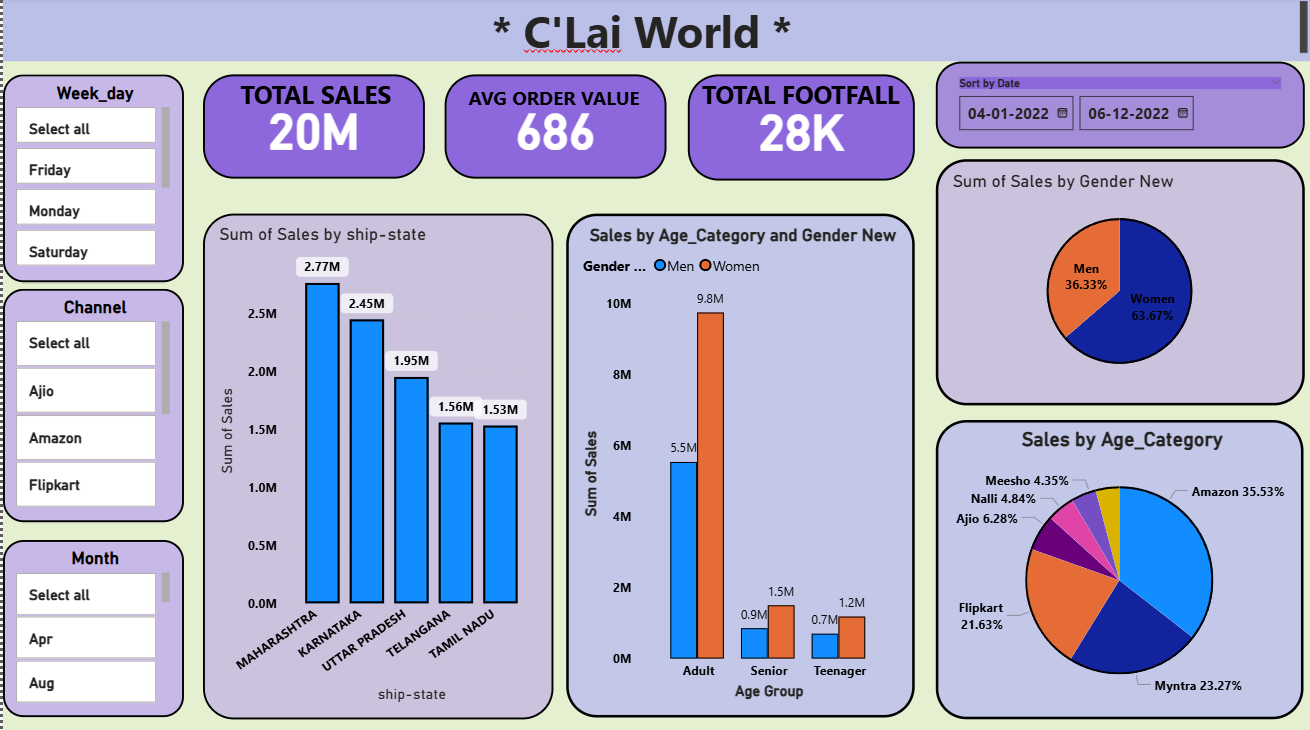

Layout of this report page (visuals, bound fields, positions):
{"tool":"powerbi","page":{"name":"Final Report","canvas":[1280,720],"ordinal":3},"visuals":[{"type":"clusteredColumnChart","title":"Sales by Age_Category and Gender New","fields":{"Y":["Sum(Vrinda Store.Sales)"],"Series":["Vrinda Store.Gender New"],"Category":["Vrinda Store.Age Group"]},"box":[550.9,212,340.5,492.4],"z":0},{"type":"pieChart","title":"Sales by Age_Category","fields":{"Y":["Sum(Vrinda Store.Sales)"],"Category":["Vrinda Store.Channel "]},"box":[911.7,414.4,359.7,292.4],"z":1000},{"type":"advancedSlicerVisual","fields":{"Values":["Vrinda Store.Week_day"]},"box":[0,76.7,176.7,203.3],"z":2000},{"type":"textbox","box":[0,0,1280,64],"z":3000},{"type":"advancedSlicerVisual","fields":{"Values":["Vrinda Store.Channel "]},"box":[0,286.7,176.7,228.3],"z":4000},{"type":"advancedSlicerVisual","fields":{"Values":["Vrinda Store.Month"]},"box":[0,531.7,176.7,173.3],"z":5000},{"type":"slicer","fields":{"Values":["Vrinda Store.Date"]},"box":[911.4,63.4,360.6,85.1],"z":6000},{"type":"pieChart","fields":{"Y":["Sum(Vrinda Store.Sales)"],"Category":["Vrinda Store.Gender New"]},"box":[911.4,160.3,360.6,240.4],"z":7000},{"type":"lineClusteredColumnComboChart","fields":{"Y":["Sum(Vrinda Store.Sales)"],"Category":["Vrinda Store.ship-state"]},"box":[195.5,212.7,342.5,494.2],"z":8000},{"type":"card","fields":{"Values":["Vrinda Store.TOTAL_FOOTFALL"]},"box":[669.4,76.8,222,103.5],"z":9000},{"type":"card","fields":{"Values":["Vrinda Store.TOTAL_SALES"]},"box":[195.3,76.8,217,101.8],"z":10000},{"type":"card","fields":{"Values":["Vrinda Store.AVERAGE_ORDER_VALUE"]},"box":[432.4,76.8,217,101.8],"z":11000},{"type":"textbox","box":[195.3,75.1,220.3,53.4],"z":12000},{"type":"textbox","box":[415.7,81.8,245.4,53.4],"z":13000},{"type":"textbox","box":[669.4,75.1,220.3,53.4],"z":14000}]}

Visuals, with their boxes in screenshot pixels (x1, y1, x2, y2), scaled from the page's 1280x720 canvas onto the 1310x730 screenshot:
"Sales by Age_Category and Gender New" clusteredColumnChart: Rect(564, 215, 912, 714)
"Sales by Age_Category" pieChart: Rect(933, 420, 1301, 717)
advancedSlicerVisual - Vrinda Store.Week_day: Rect(0, 78, 181, 284)
textbox: Rect(0, 0, 1309, 65)
advancedSlicerVisual - Vrinda Store.Channel : Rect(0, 291, 181, 522)
advancedSlicerVisual - Vrinda Store.Month: Rect(0, 539, 181, 715)
slicer - Vrinda Store.Date: Rect(933, 64, 1302, 151)
pieChart - Sum(Vrinda Store.Sales) x Vrinda Store.Gender New: Rect(933, 163, 1302, 406)
lineClusteredColumnComboChart - Sum(Vrinda Store.Sales) x Vrinda Store.ship-state: Rect(200, 216, 551, 717)
card - Vrinda Store.TOTAL_FOOTFALL: Rect(685, 78, 912, 183)
card - Vrinda Store.TOTAL_SALES: Rect(200, 78, 422, 181)
card - Vrinda Store.AVERAGE_ORDER_VALUE: Rect(443, 78, 665, 181)
textbox: Rect(200, 76, 425, 130)
textbox: Rect(425, 83, 677, 137)
textbox: Rect(685, 76, 911, 130)
